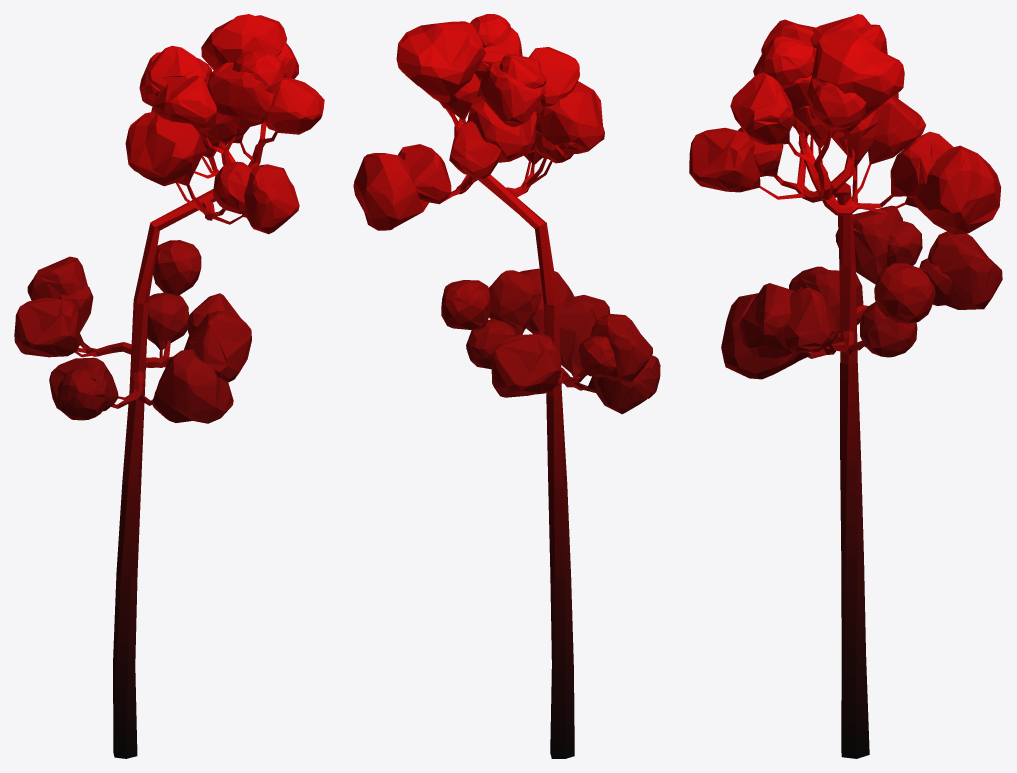
The model's file is TreePine05.fbx.
3 views of the same model, side by side, from view 1: azimuth 30°, elevation 25°; view 2: azimuth 150°, elevation 25°; view 3: azimuth 270°, elevation 25° (orthographic). The views are drawn at different scales.
Visible parts, largest first — view 1: TreePine05_LOD0; view 2: TreePine05_LOD0; view 3: TreePine05_LOD0.
Part boxes in pixels (x1,y1,x2,y2): TreePine05_LOD0: (14, 14, 324, 758); TreePine05_LOD0: (353, 14, 660, 758); TreePine05_LOD0: (689, 14, 1002, 758).
Size of what is drawn, in the model's own units: 354 by 921 by 335.
